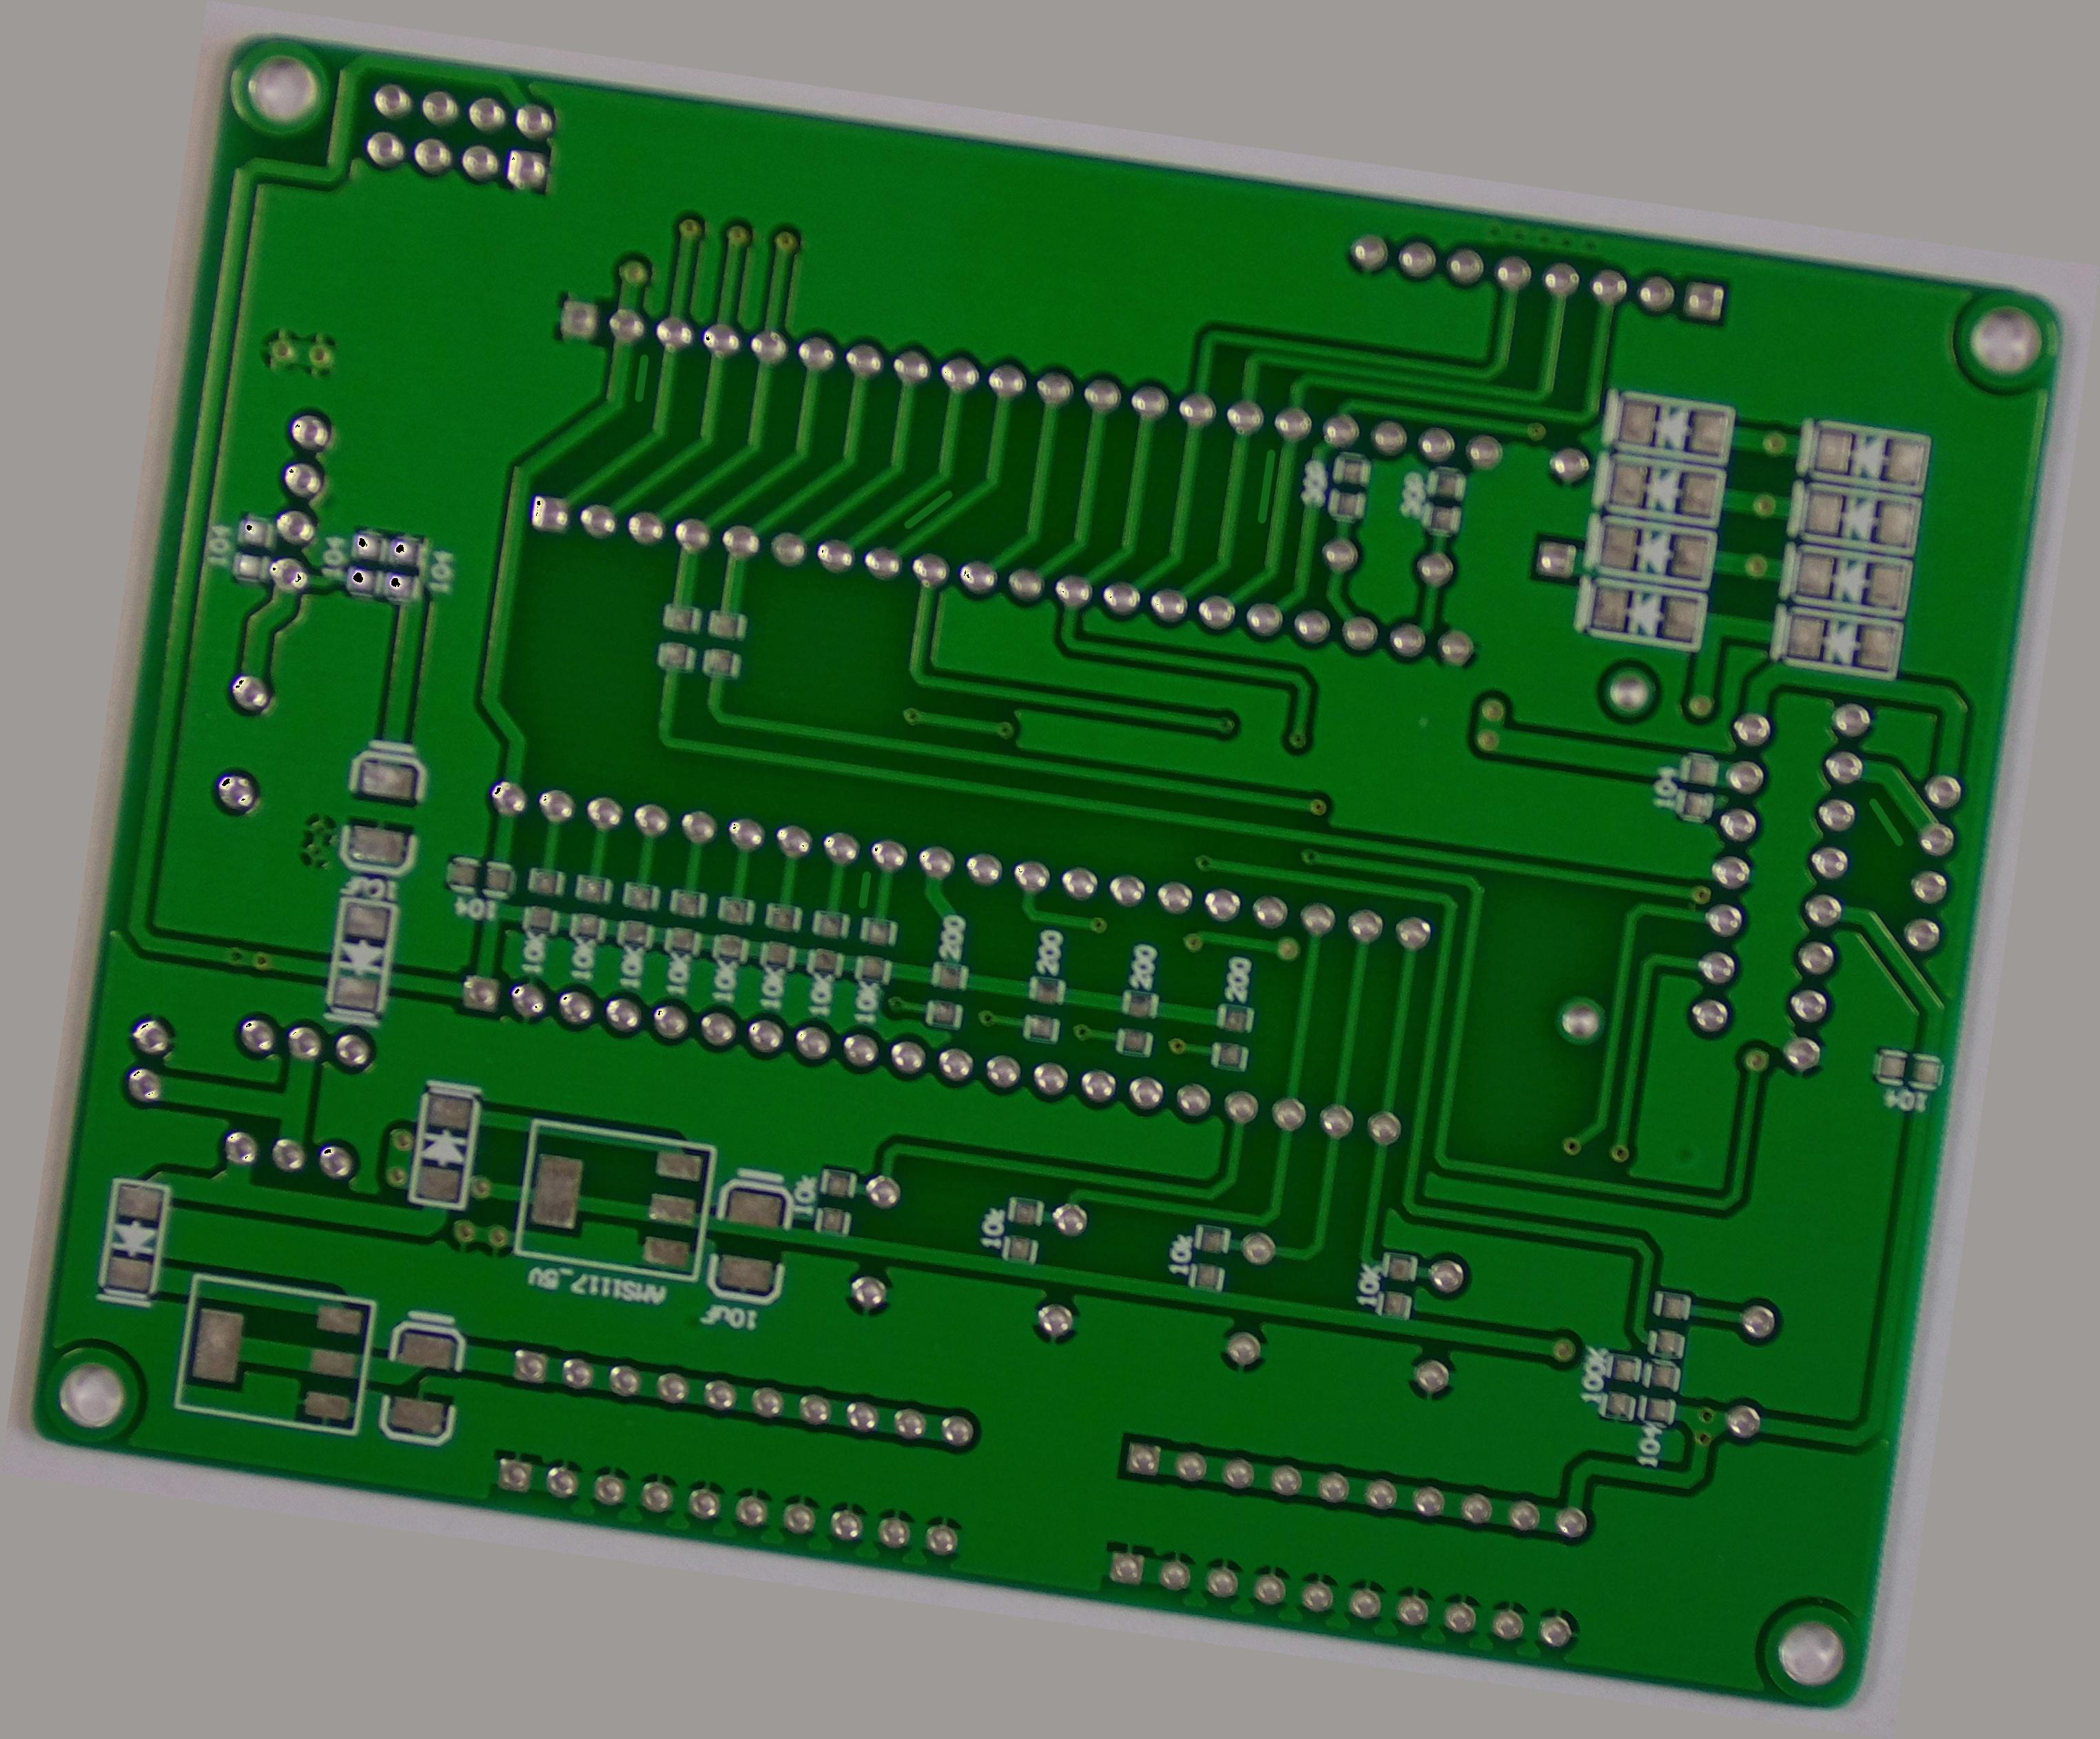spurious_copper: (881, 469, 966, 541), (1235, 441, 1292, 529), (1849, 787, 1915, 858), (623, 342, 666, 412), (844, 863, 883, 916)
